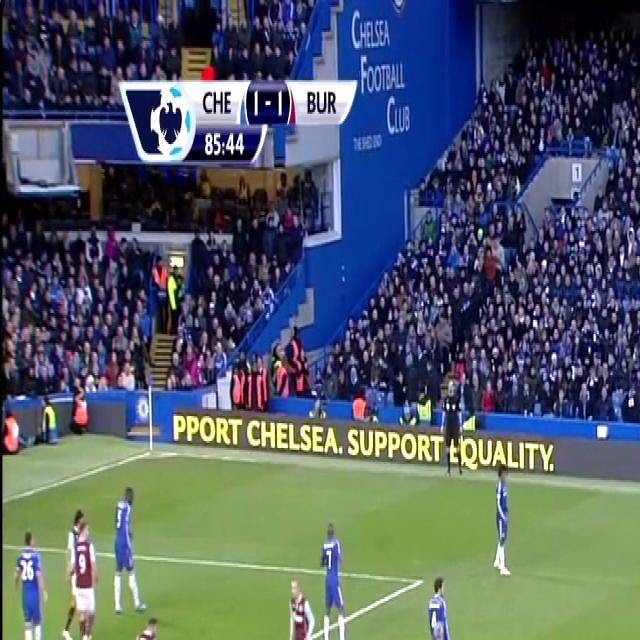referee: (436, 357, 474, 482), (429, 622, 460, 640)
soccer-player: (54, 498, 98, 640), (111, 474, 148, 615), (10, 517, 51, 640), (312, 510, 348, 640), (486, 458, 517, 586), (424, 563, 457, 640), (281, 574, 318, 640), (122, 613, 166, 640)
